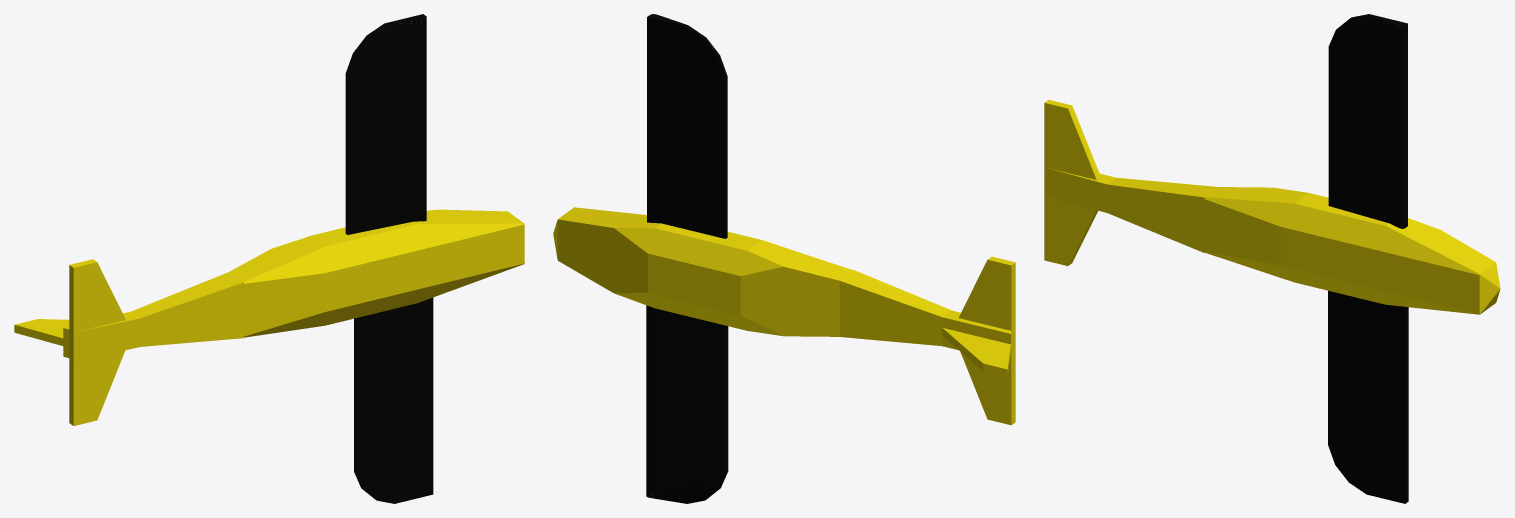
The picture shows the model from 3 angles, left to right: view 1: azimuth 30°, elevation 25°; view 2: azimuth 150°, elevation 25°; view 3: azimuth 330°, elevation 25°; orthographic projection.
Visible parts, largest first — view 1: Fuselage, LWing.001_LWing, LWing; view 2: Fuselage, LWing.001_LWing, LWing; view 3: Fuselage, LWing.001_LWing, LWing.
Boxes of the visible parts, <box> form: Fuselage: <box>14,209,524,425</box>; LWing.001_LWing: <box>345,14,426,234</box>; LWing: <box>354,297,433,503</box>; Fuselage: <box>553,207,1015,425</box>; LWing.001_LWing: <box>647,14,727,238</box>; LWing: <box>646,305,728,503</box>; Fuselage: <box>1044,99,1500,314</box>; LWing.001_LWing: <box>1328,14,1407,228</box>; LWing: <box>1328,290,1408,503</box>.
Bounding box in the file's own units: 9.55 × 9.07 × 1.41.
1 material, 1 textured.
